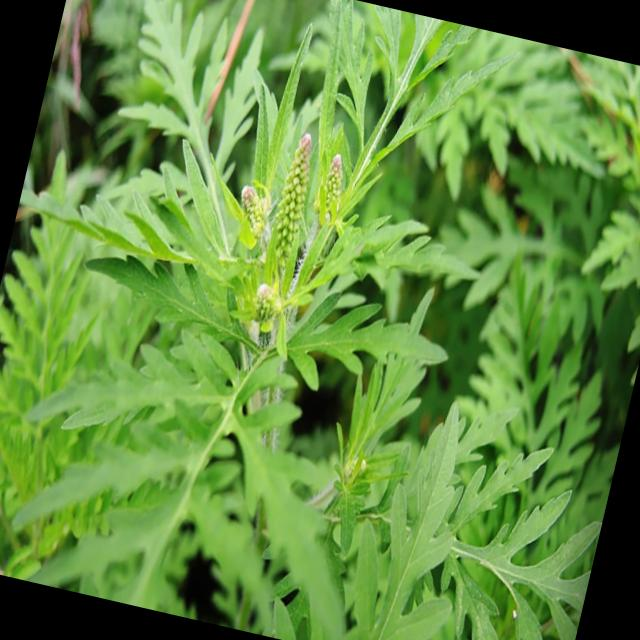ambrosia: (70, 40, 468, 472)
